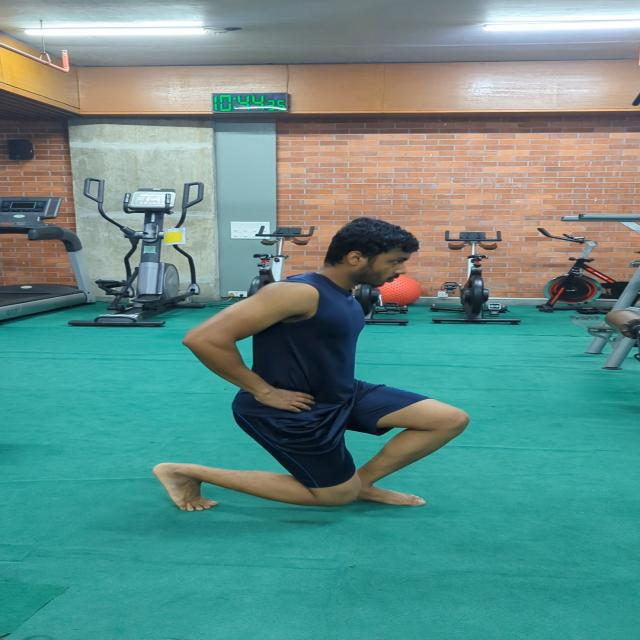Normal_Lunges: (131, 216, 482, 517)
